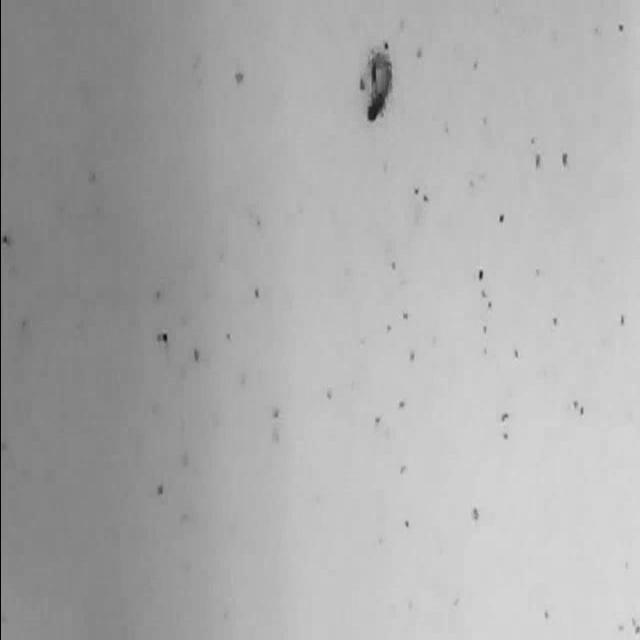larvas: (366, 52, 394, 124)
